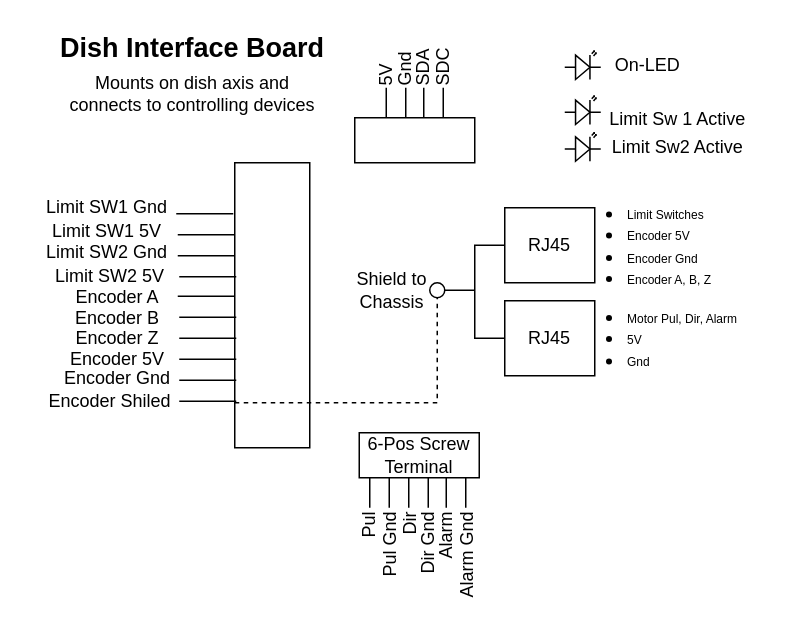
The diagram is 785 pixels wide and 638 high, and some of its shapes have lost their labels. Here are the shapes that lost their labels. From the top down, the box of each, then its label:
(353, 116, 475, 163): 4-Pos Screw Terminal
(233, 161, 310, 448): Screw Terminal Barrier Block 10-pos
